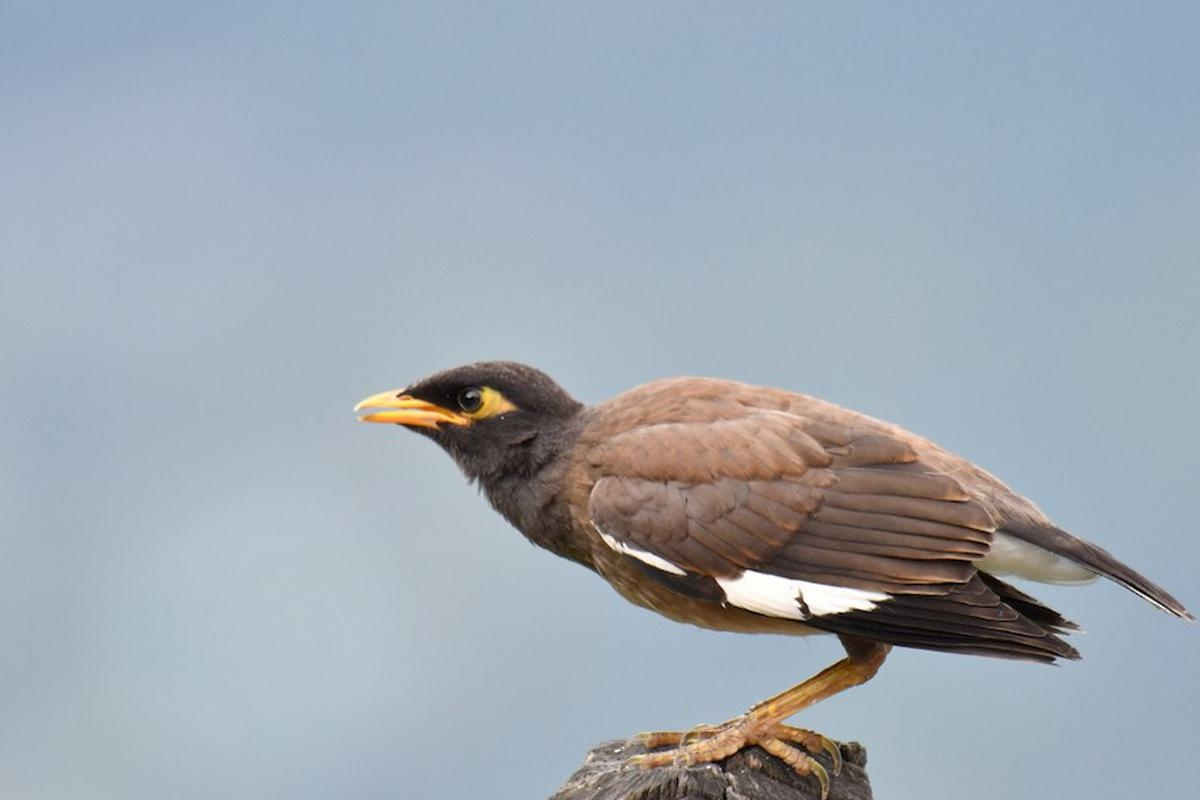myna: (290, 285, 1087, 750)
